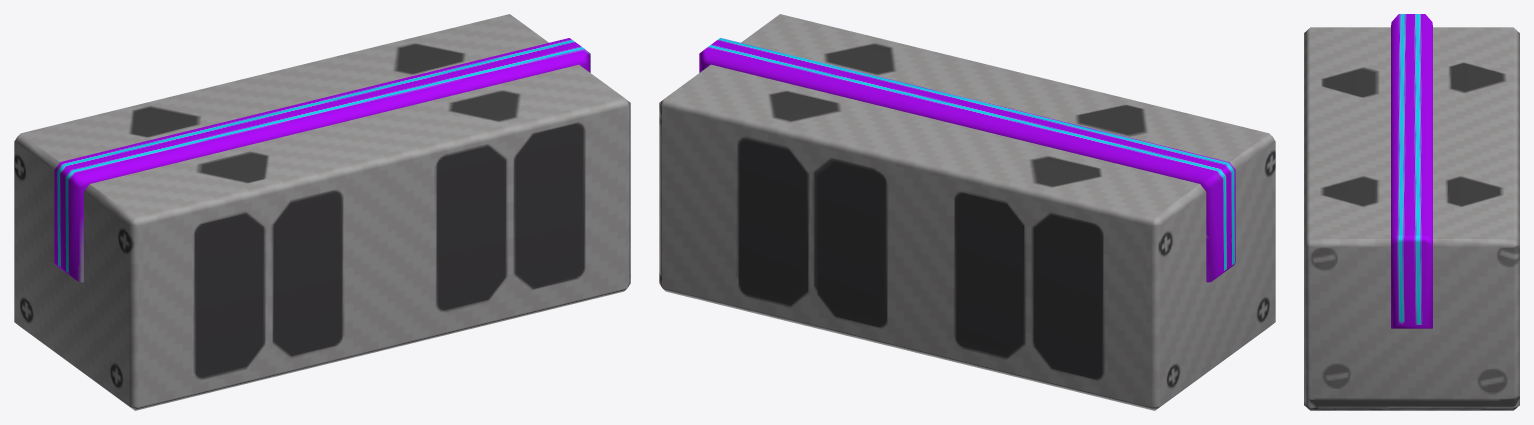
3 renders of one model, left to right at view 1: azimuth 30°, elevation 25°; view 2: azimuth 150°, elevation 25°; view 3: azimuth 270°, elevation 25°, orthographic. The views are drawn at different scales.
Parts seen in each view (by area): view 1: SM_Box_03; view 2: SM_Box_03; view 3: SM_Box_03.
Boxes of the visible parts, x1=… form: SM_Box_03: x1=14, y1=14, x2=630, y2=410; SM_Box_03: x1=659, y1=14, x2=1275, y2=410; SM_Box_03: x1=1304, y1=14, x2=1519, y2=410.
Bounding box in the file's own units: 59.33 × 24 × 22.19.
Materials: 1 (1 with a texture image).
